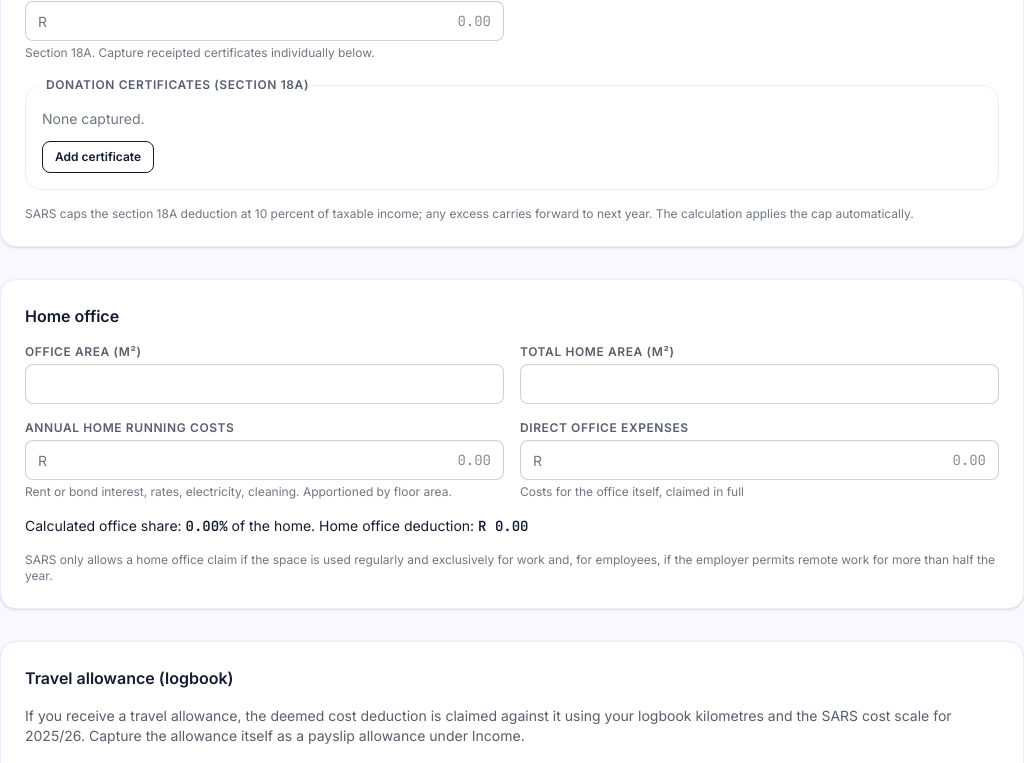
Test: DeductionsPage travel and home office › shows the area based home office share
(page scrolled)
Type "12" into the number field named "Office area in square metres" at {"x": 264, "y": 384}, box [25,364,504,404]
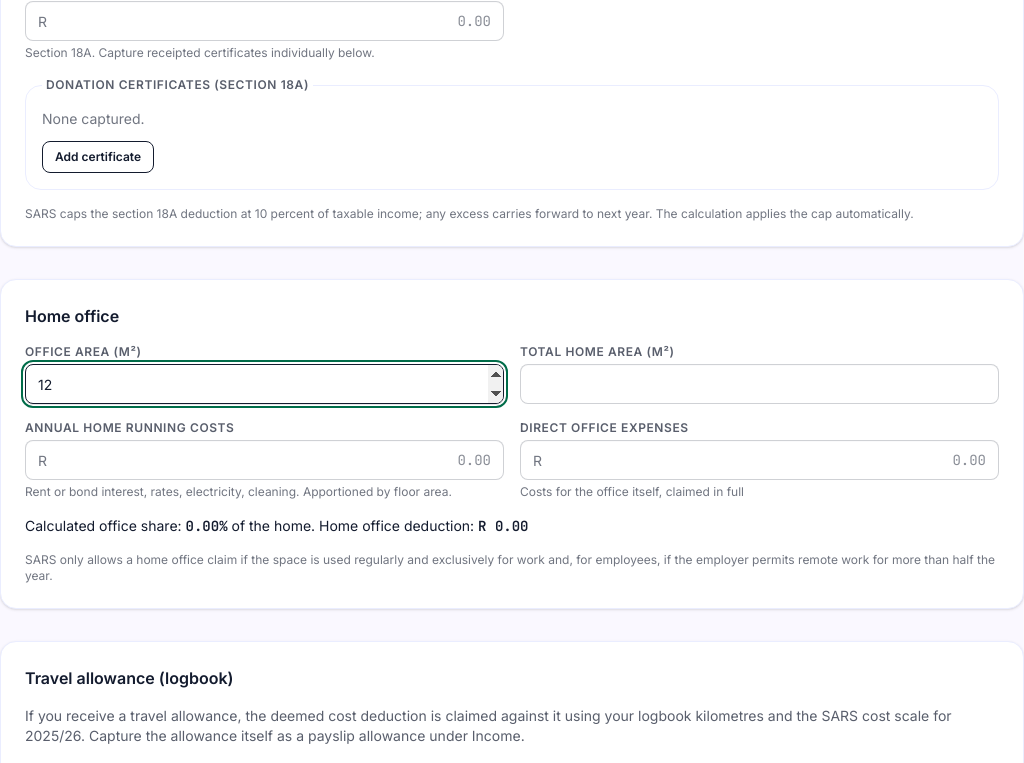
Type "150" into the number field named "Total home area in square metres" at {"x": 760, "y": 384}, box [520,364,999,404]
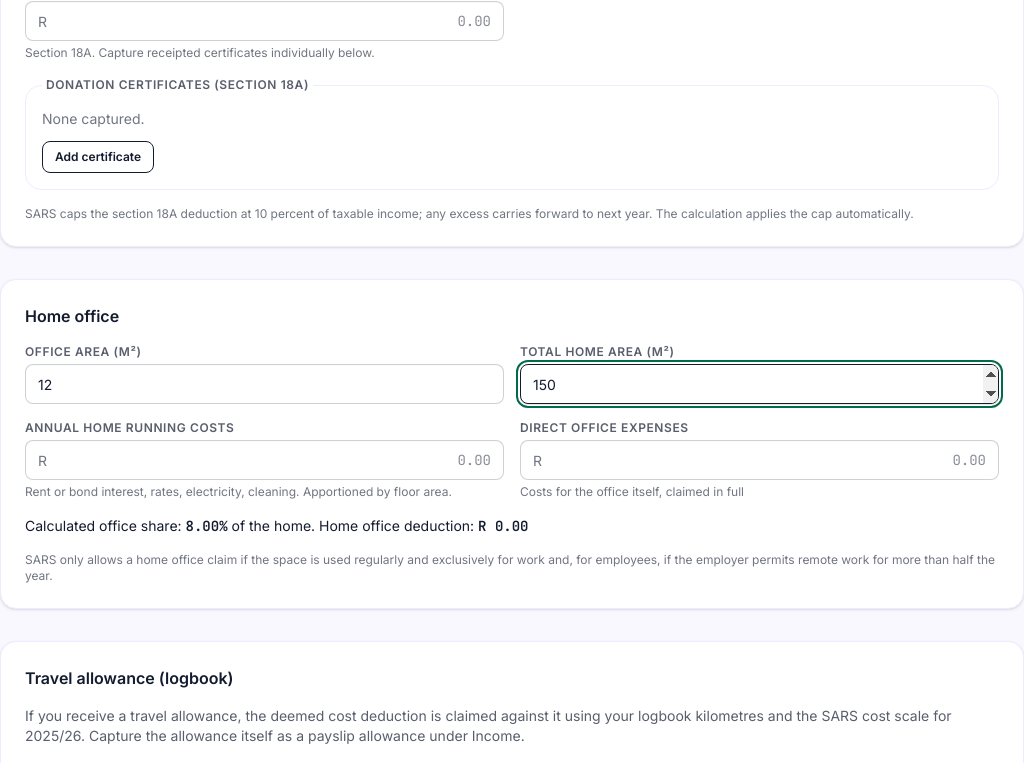
Type "50000" into the field labelled "Annual home running costs" at {"x": 273, "y": 460}, box [55,441,491,479]
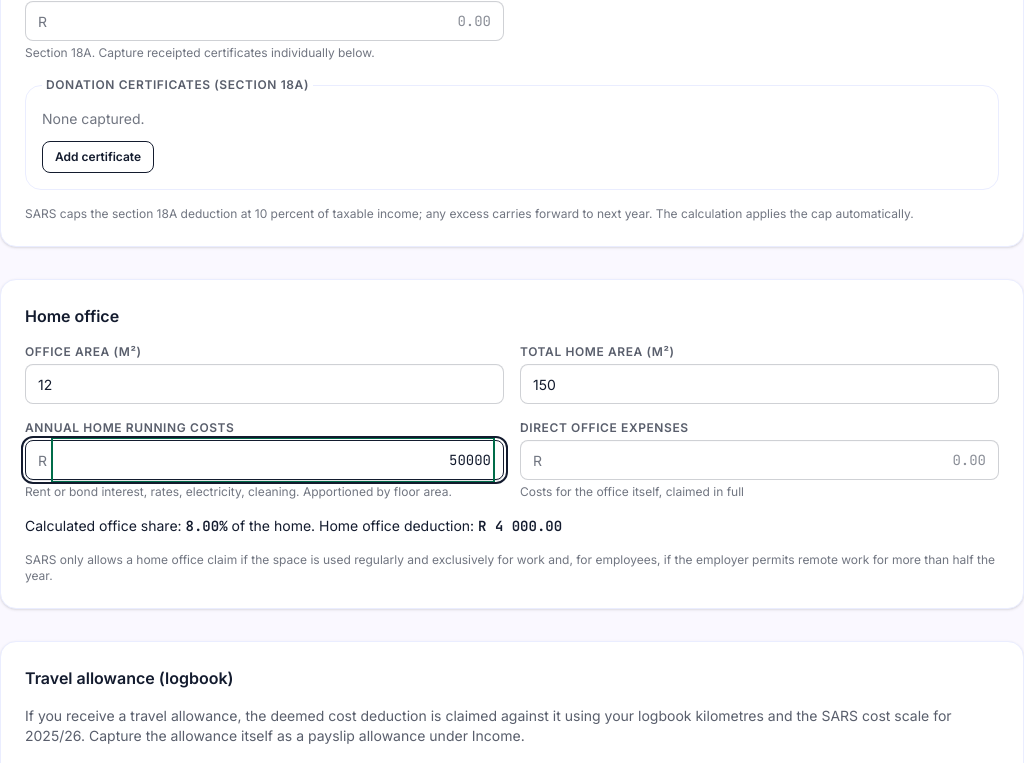
Check: the text "8.00%" is shown, box [186,517,228,535]
Check: the text "R 4 000.00" is shown, box [478,517,562,535]
